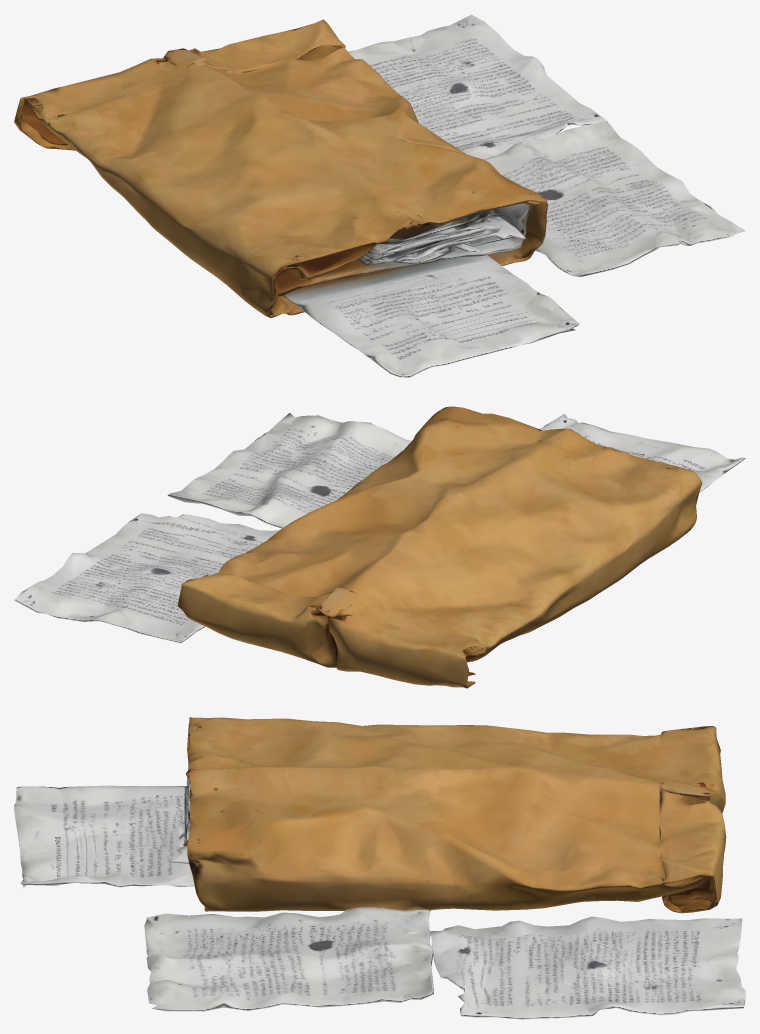
The model's file is level-xw0-papers.glb.
3 views of the same model, one above another, from view 1: azimuth 30°, elevation 25°; view 2: azimuth 150°, elevation 25°; view 3: azimuth 270°, elevation 25° (orthographic). The views are drawn at different scales.
Visible parts, largest first — view 1: tripo_node_b94c346f-34fb-484a-808c-5c6c47c2445f; view 2: tripo_node_b94c346f-34fb-484a-808c-5c6c47c2445f; view 3: tripo_node_b94c346f-34fb-484a-808c-5c6c47c2445f.
Part boxes in pixels (x1=…): tripo_node_b94c346f-34fb-484a-808c-5c6c47c2445f: x1=14, y1=14, x2=745, y2=377; tripo_node_b94c346f-34fb-484a-808c-5c6c47c2445f: x1=14, y1=406, x2=745, y2=688; tripo_node_b94c346f-34fb-484a-808c-5c6c47c2445f: x1=14, y1=717, x2=745, y2=1019.
Size of the model in its own units: 0.3747 by 0.0694 by 0.48.
Materials: 1 (1 with a texture image).
